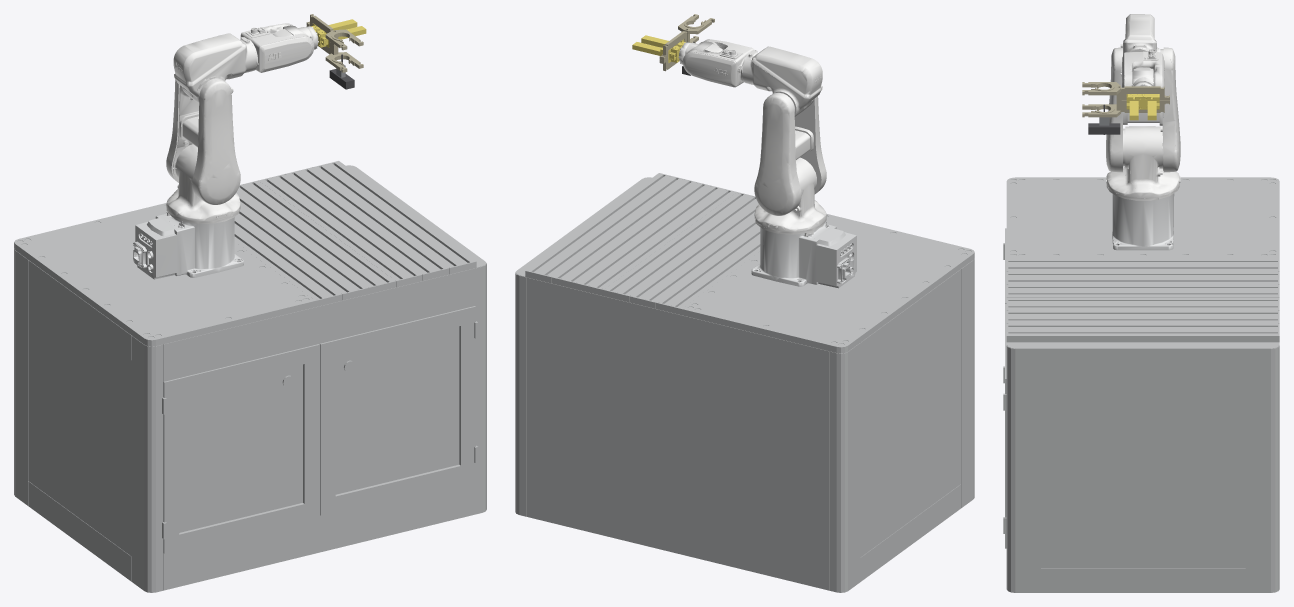
File: irb120_skeniranje.glb
The picture shows the model from 3 angles, left to right: view 1: azimuth 30°, elevation 25°; view 2: azimuth 150°, elevation 25°; view 3: azimuth 270°, elevation 25°; orthographic projection. The views are drawn at different scales.
Parts seen in each view (by area): view 1: l_stol, l_clanak2, l_baza, l_clanak3, l_clanak1, l_clanak4, l_drzac; view 2: l_stol, l_clanak2, l_baza, l_clanak3, l_clanak1, l_clanak4, l_drzac, l_schunk; view 3: l_stol, l_clanak1, l_clanak2, l_baza, l_drzac, l_clanak3, l_clanak4, l_schunk, l_clanak5, l_c920.
Part boxes in pixels (box(x1,y1,x2,y2)): l_stol: box(14, 161, 486, 592); l_clanak2: box(166, 78, 240, 204); l_baza: box(133, 211, 243, 279); l_clanak3: box(173, 33, 258, 102); l_clanak1: box(166, 144, 240, 224); l_clanak4: box(240, 23, 314, 72); l_drzac: box(306, 14, 363, 72); l_stol: box(515, 173, 974, 592); l_clanak2: box(754, 92, 826, 215); l_baza: box(751, 221, 856, 288); l_clanak3: box(741, 46, 822, 116); l_clanak1: box(754, 157, 826, 236); l_clanak4: box(682, 39, 754, 87); l_drzac: box(659, 14, 714, 71); l_schunk: box(632, 35, 685, 62); l_stol: box(1003, 177, 1279, 592); l_clanak1: box(1106, 126, 1180, 200); l_clanak2: box(1106, 47, 1180, 172); l_baza: box(1112, 193, 1174, 250); l_drzac: box(1082, 82, 1169, 117); l_clanak3: box(1120, 14, 1159, 74); l_clanak4: box(1121, 49, 1164, 87); l_schunk: box(1126, 94, 1159, 120); l_clanak5: box(1131, 67, 1153, 86); l_c920: box(1088, 123, 1120, 134).
Bounding box in the file's own units: 1.14 × 1.51 × 0.81.
